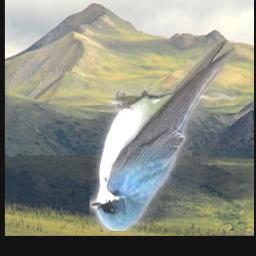Swallow: (90, 41, 236, 232)
